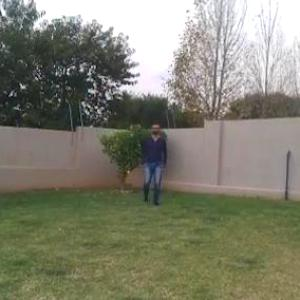follow: (143, 124, 164, 209)
